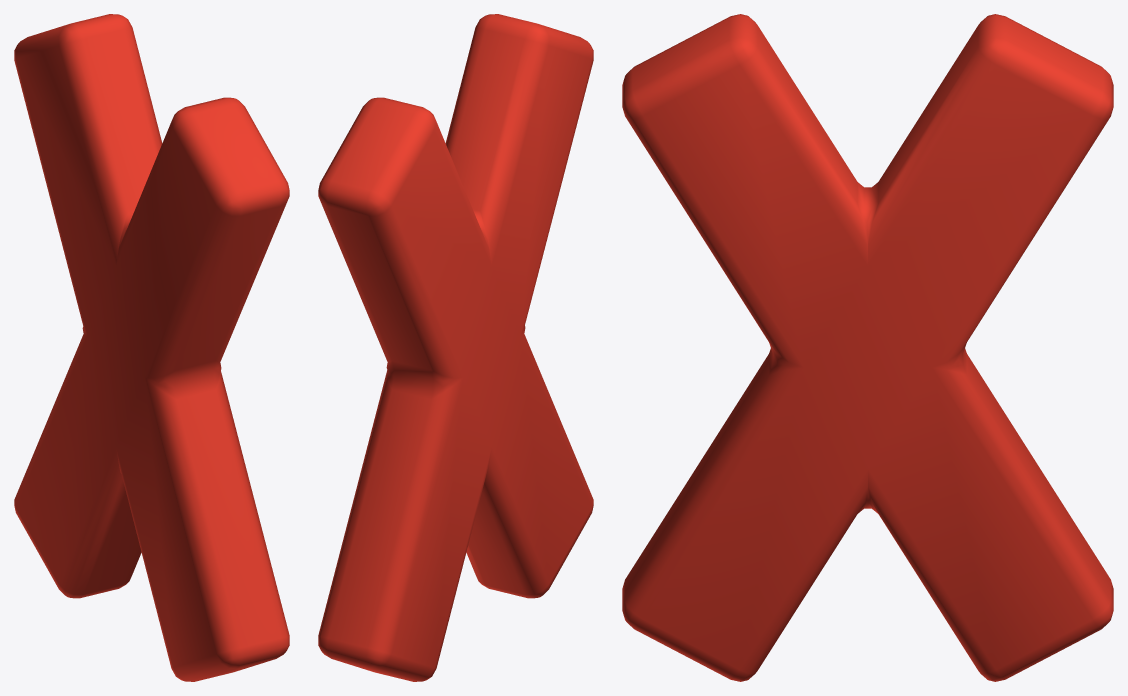
3 views of the same model, side by side, from view 1: azimuth 30°, elevation 25°; view 2: azimuth 150°, elevation 25°; view 3: azimuth 270°, elevation 25° (orthographic). The views are drawn at different scales.
Parts seen in each view (by area): view 1: Plane.003; view 2: Plane.003; view 3: Plane.003.
Boxes of the visible parts, box(x1,y1,x2,y2) form: Plane.003: box(14, 14, 289, 681); Plane.003: box(318, 14, 593, 681); Plane.003: box(622, 14, 1113, 681).
Bounding box in the file's own units: 0.0535 × 0.4087 × 0.2832.
